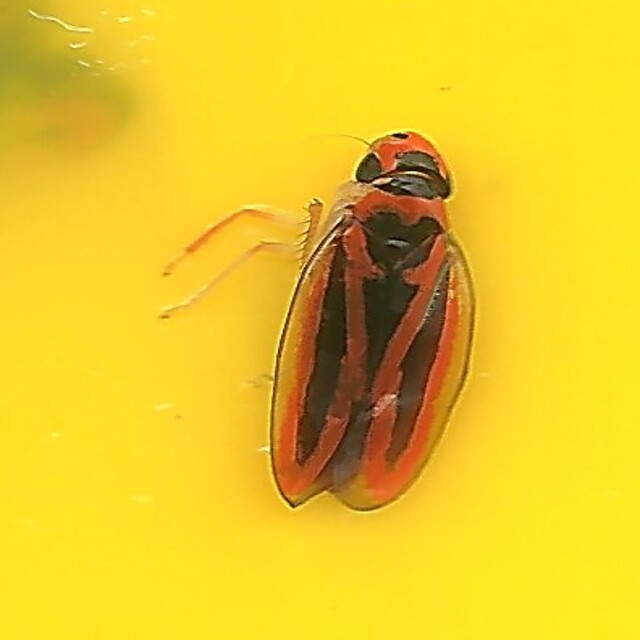Hemiptera: (162, 126, 478, 514)
